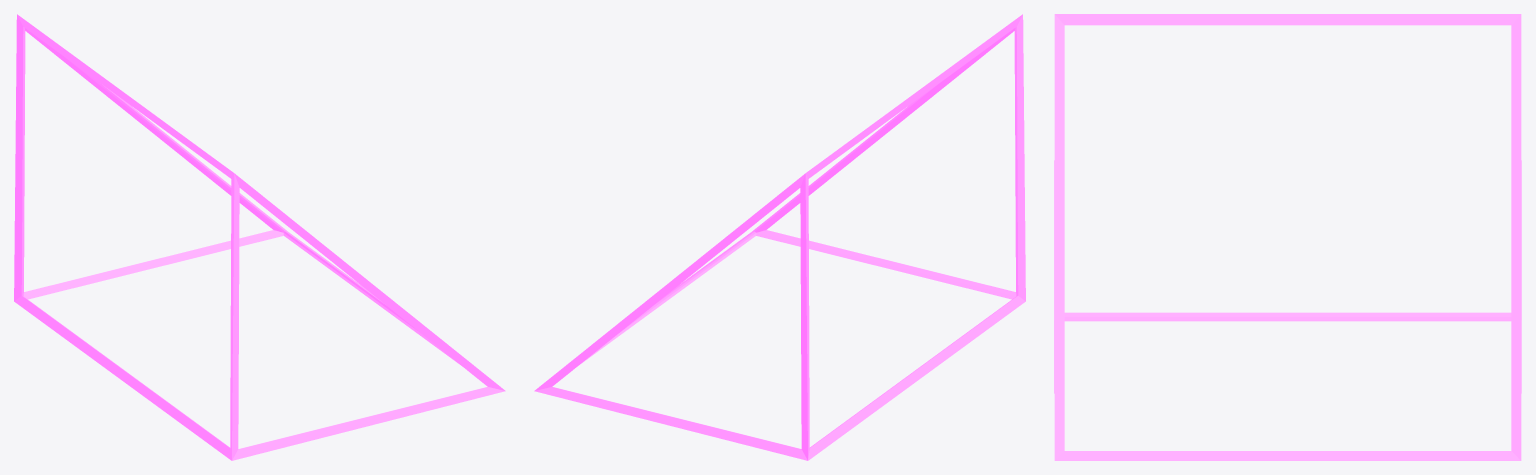
The model's file is half_selection.glb.
3 views of the same model, side by side, from view 1: azimuth 30°, elevation 25°; view 2: azimuth 150°, elevation 25°; view 3: azimuth 270°, elevation 25° (orthographic). The views are drawn at different scales.
Parts seen in each view (by area): view 1: HalfSelection; view 2: HalfSelection; view 3: HalfSelection.
Boxes of the visible parts, left/top/right/bottom form: HalfSelection: left=14, top=14, right=505, bottom=460; HalfSelection: left=534, top=14, right=1025, bottom=460; HalfSelection: left=1054, top=14, right=1521, bottom=460.
Bounding box in the file's own units: 0.527 × 0.527 × 0.7252.
